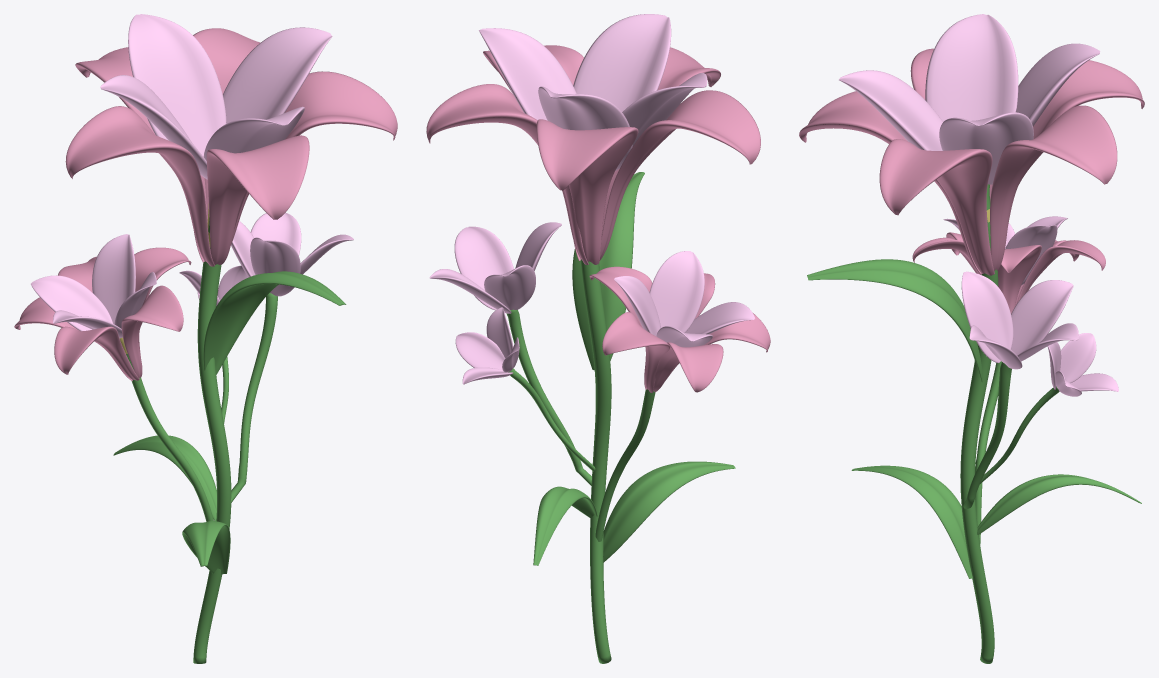
The model's file is flowefbx.fbx.
The picture shows the model from 3 angles, left to right: view 1: azimuth 30°, elevation 25°; view 2: azimuth 150°, elevation 25°; view 3: azimuth 270°, elevation 25°; orthographic projection.
Parts seen in each view (by area): view 1: NurbsPath.016; view 2: NurbsPath.016; view 3: NurbsPath.016.
Boxes of the visible parts, bbox=[...] form: NurbsPath.016: bbox=[14, 14, 397, 663]; NurbsPath.016: bbox=[426, 14, 770, 663]; NurbsPath.016: bbox=[799, 14, 1144, 663].
Size of the model in its own units: 91.03 by 171 by 88.33.
